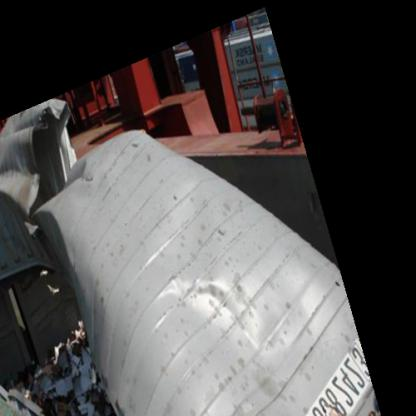Damage: (2, 245, 132, 415)
